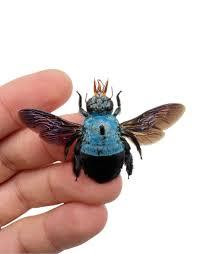Xylocopa: (33, 70, 187, 188)
